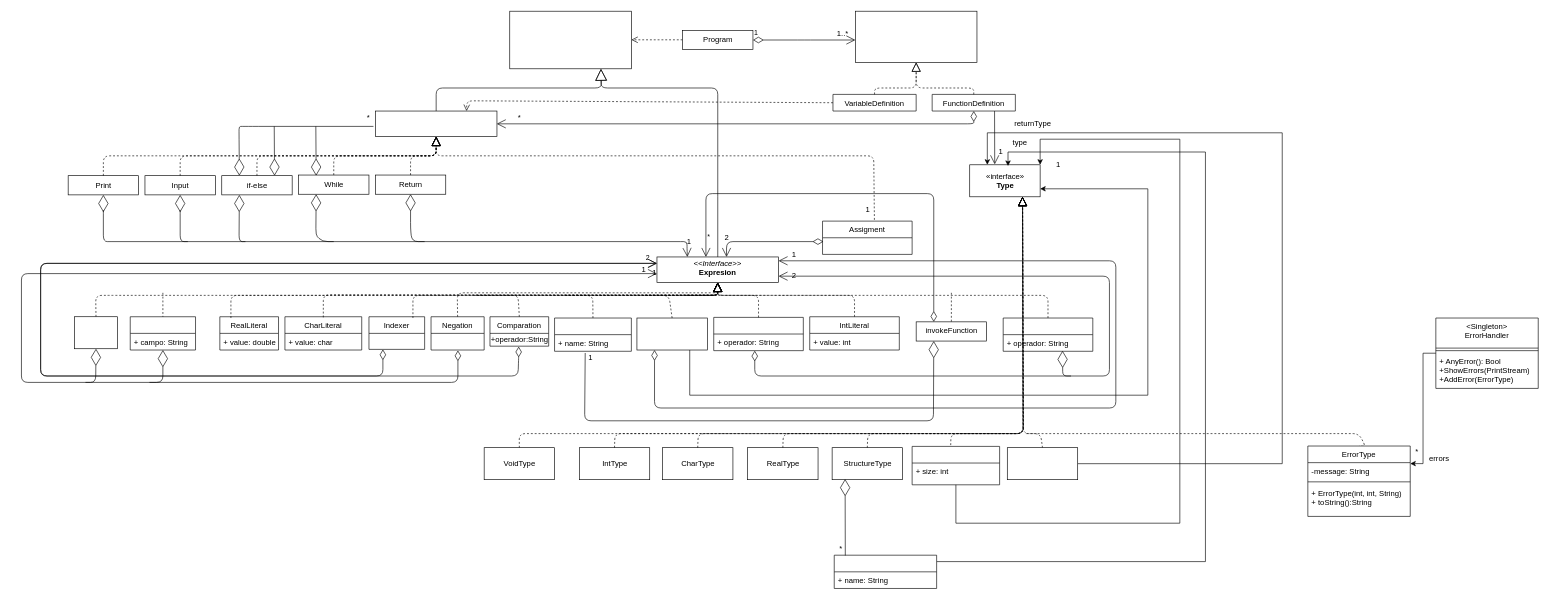
Some shapes in this 1549 by 602 pixel diagram are drawn without their labels. The box of each missing label's shape, as (x1, y1, x2, y2) in pixels:
<<Interface>> ASTNode + getLine(): int + getColumn(): int: (509, 11, 631, 69)
<<Interface>> Definition + getType(): Type + getName(): String: (855, 11, 977, 62)
<<Interface>> Statement: (375, 110, 497, 137)
Arithmetic: (1003, 317, 1093, 351)
Array: (911, 446, 1000, 485)
Cast: (636, 317, 707, 350)
FiledAccess: (130, 316, 196, 350)
FunctionType: (1007, 447, 1078, 480)
Logic: (713, 317, 803, 351)
StructureField: (834, 555, 937, 588)
UnaryMinus: (74, 316, 117, 349)
Variable: (554, 317, 631, 351)
